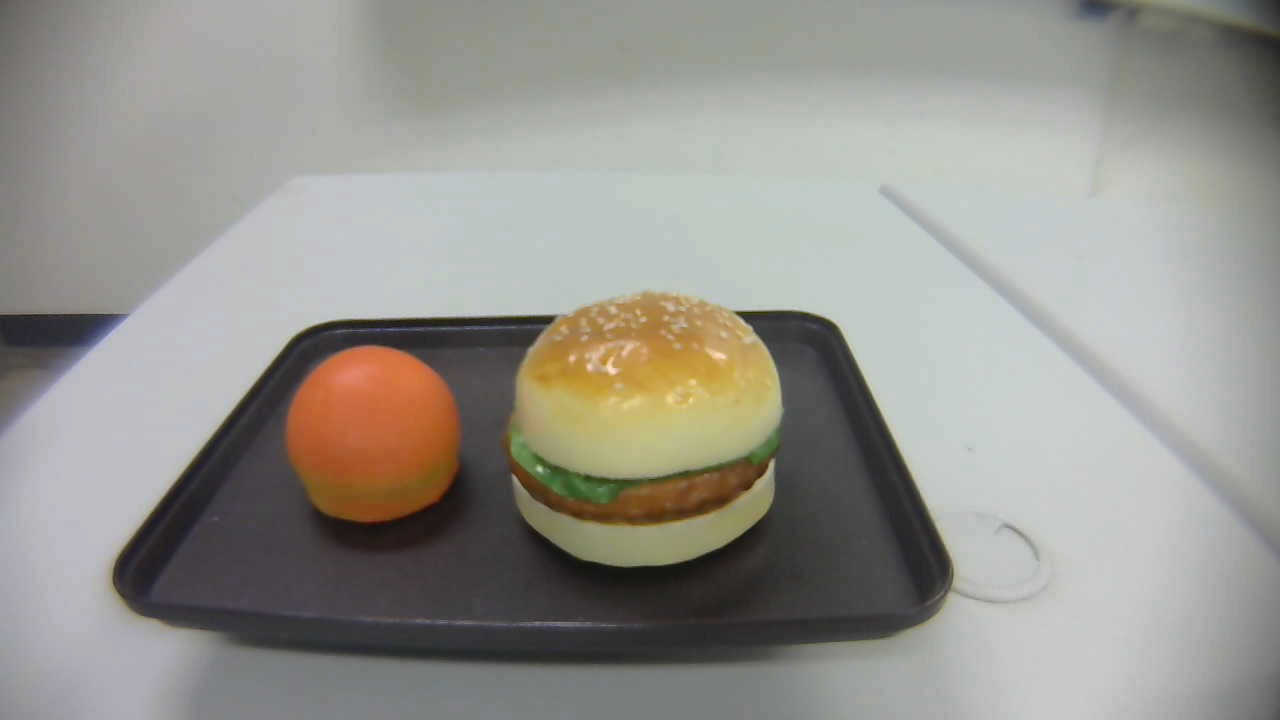bun: (286, 345, 462, 524)
hamburger: (505, 291, 784, 570)
